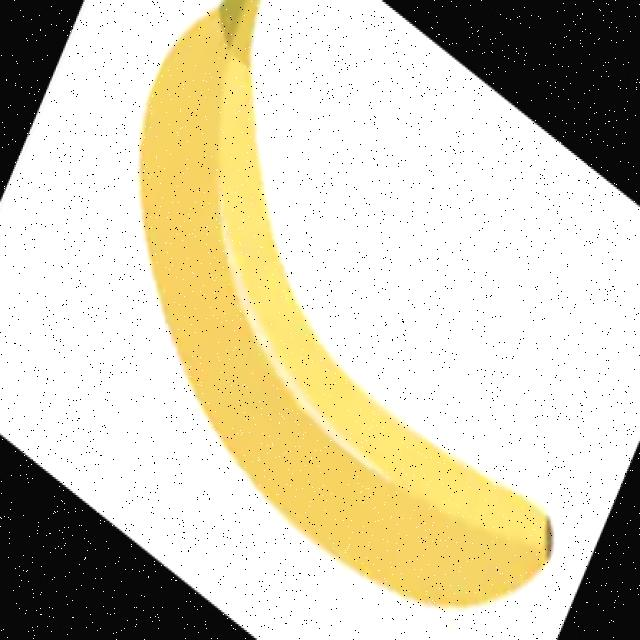god quality banana: (139, 2, 550, 605)
